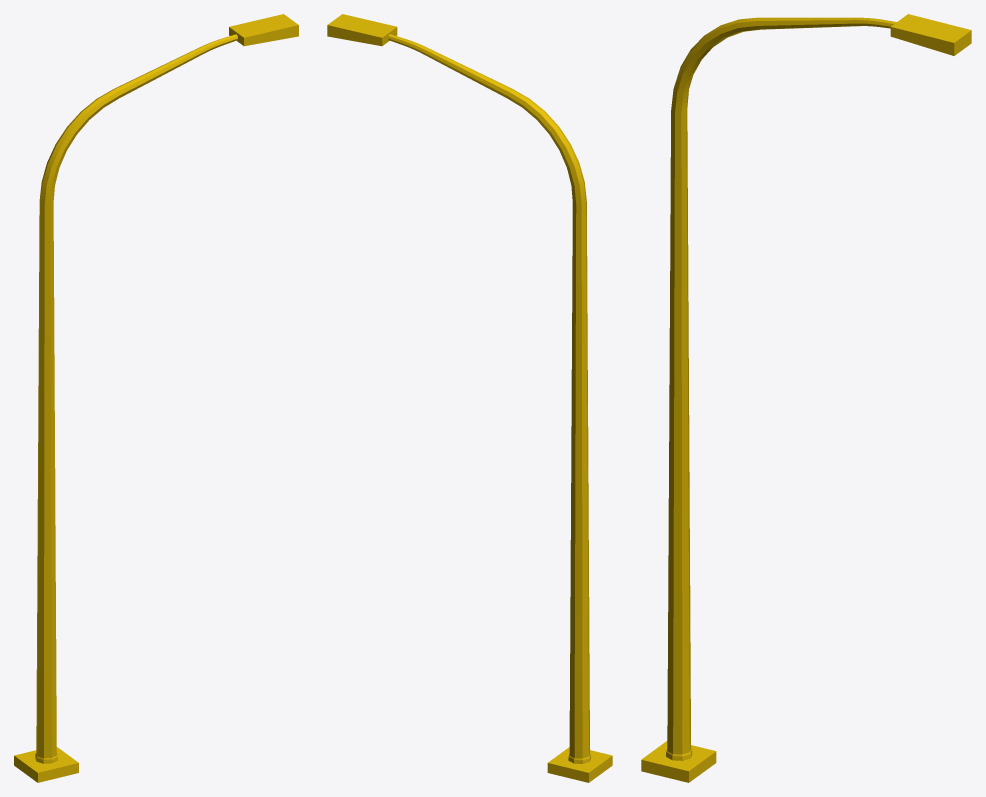
File: StreetLight.fbx
3 views of the same model, side by side, from view 1: azimuth 30°, elevation 25°; view 2: azimuth 150°, elevation 25°; view 3: azimuth 330°, elevation 25° (orthographic). The views are drawn at different scales.
Parts seen in each view (by area): view 1: StreetLight; view 2: StreetLight; view 3: StreetLight.
Part boxes in pixels (x1,y1,x2,y2): StreetLight: [14, 14, 298, 782]; StreetLight: [327, 14, 612, 782]; StreetLight: [641, 14, 971, 782].
Size of the model in its own units: 646 by 1604 by 100.
